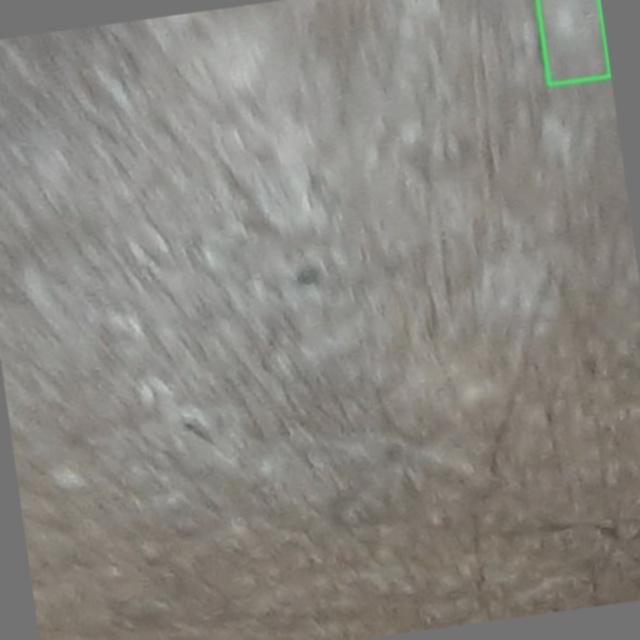Eczema: (537, 0, 610, 84)
